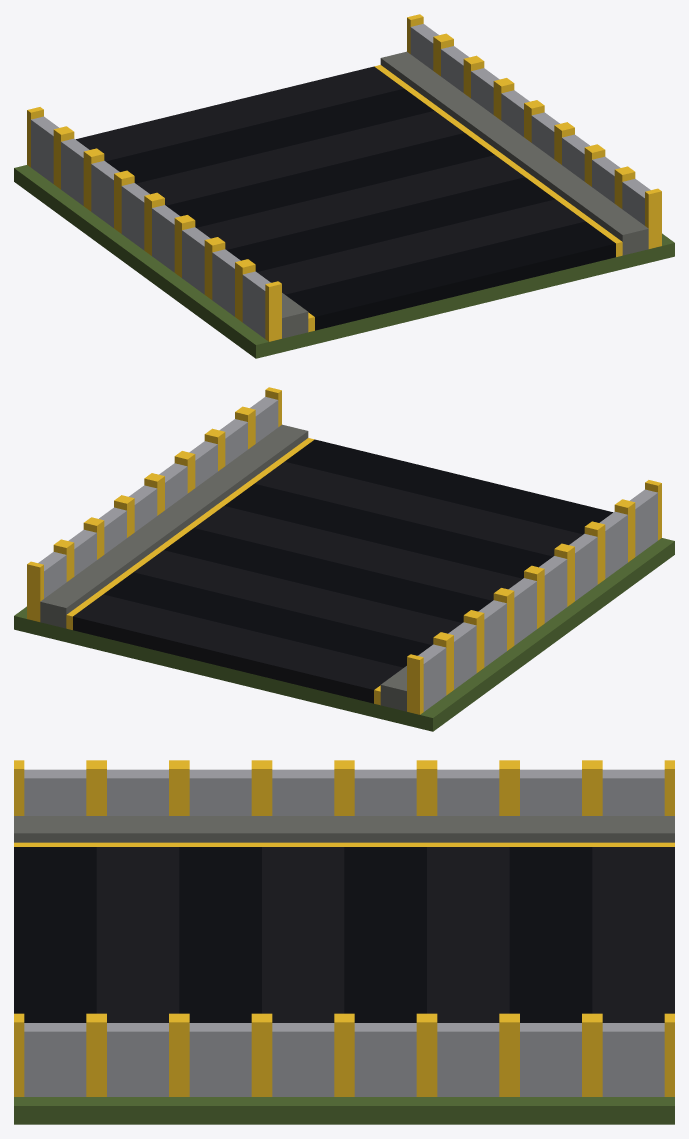
File: tile_straight.glb
3 views of the same model, one above another, from view 1: azimuth 30°, elevation 25°; view 2: azimuth 150°, elevation 25°; view 3: azimuth 270°, elevation 25° (orthographic). The views are drawn at different scales.
Parts seen in each view (by area): view 1: tile_straight; view 2: tile_straight; view 3: tile_straight.
Boxes of the visible parts, box(x1,y1,x2,y2) form: tile_straight: box(14, 14, 674, 358); tile_straight: box(14, 387, 674, 731); tile_straight: box(14, 760, 674, 1124).
Size of the model in its own units: 4 by 0.625 by 4.
1 material, 1 textured.
